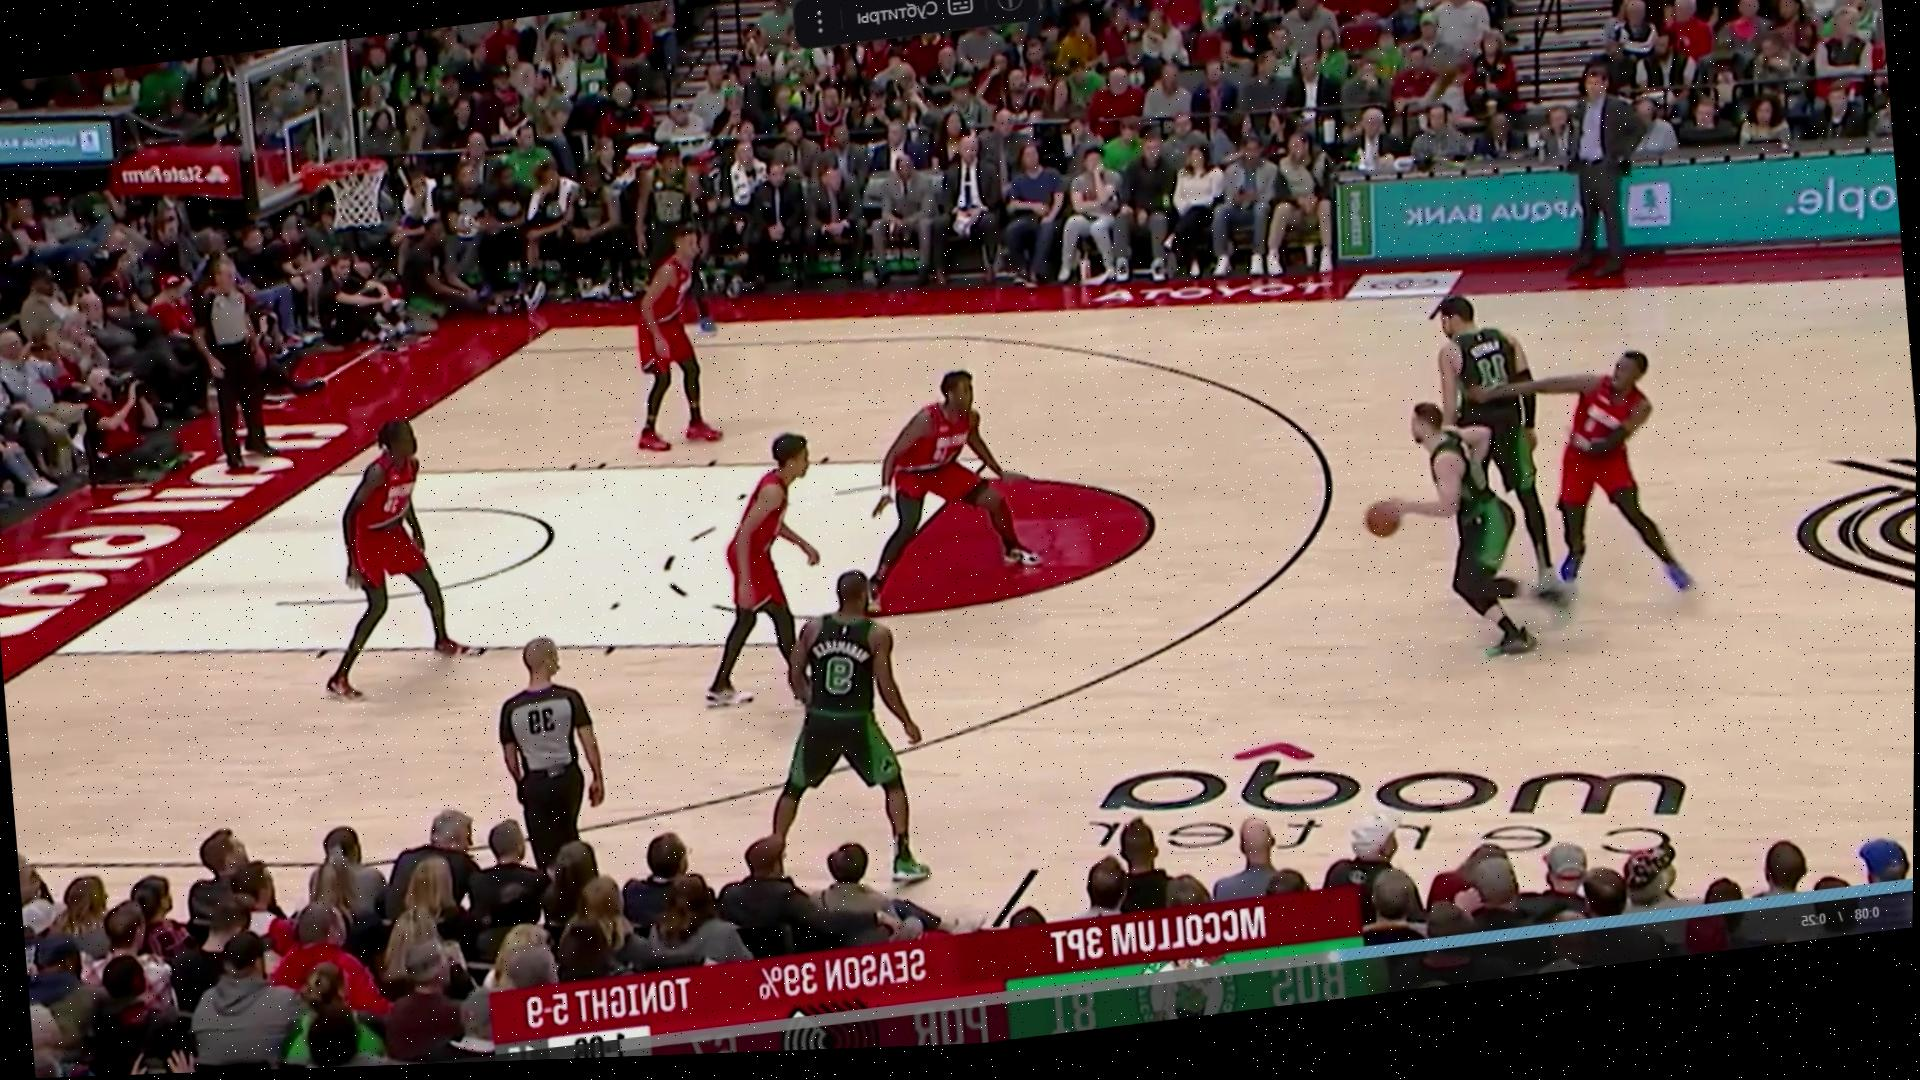foul: (1390, 273, 1668, 584)
